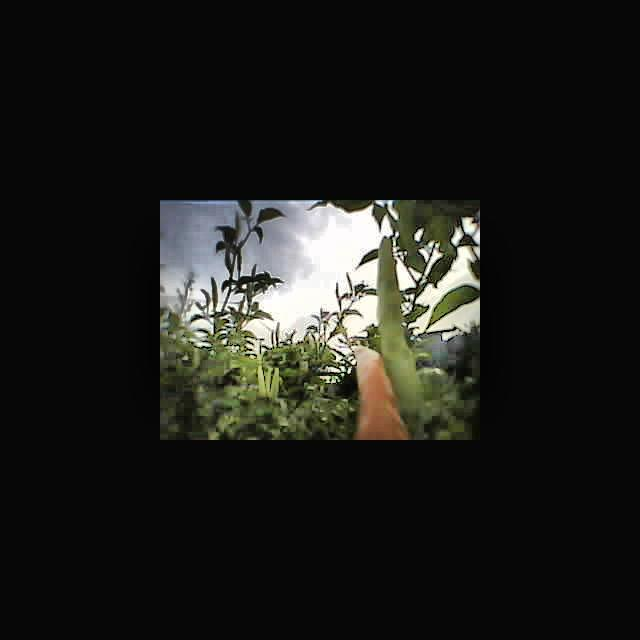Cabai: (350, 346, 399, 436)
